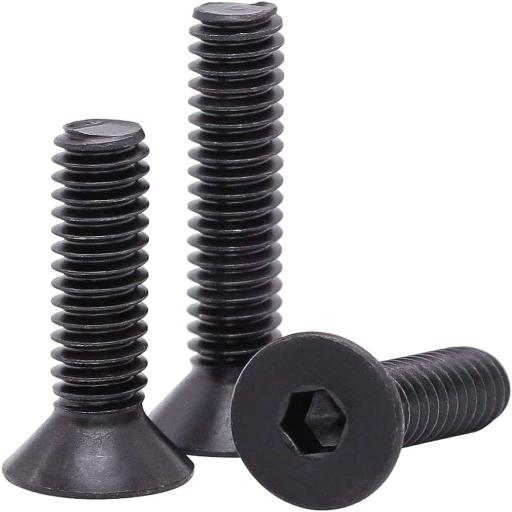Hex-Allen: (229, 331, 401, 509)
